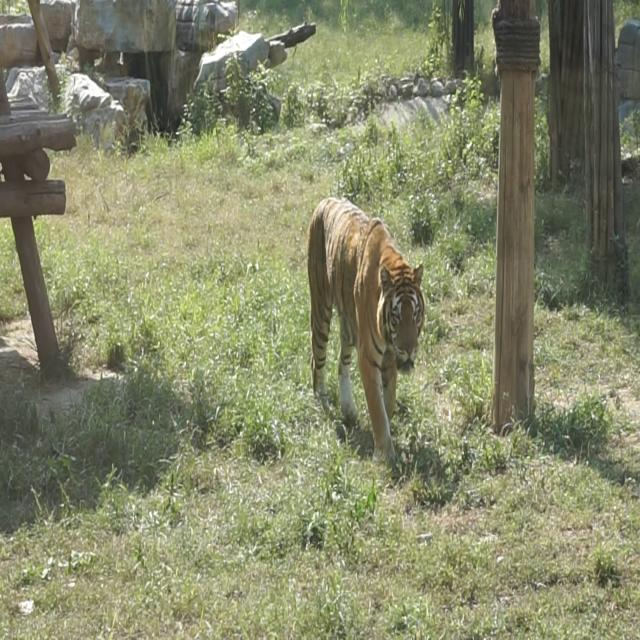Tiger: (288, 160, 452, 487)
